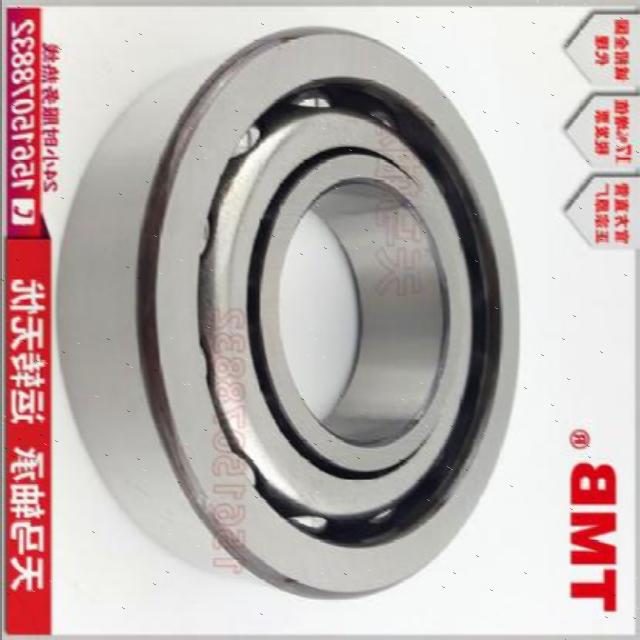Bearing: (54, 21, 526, 608)
